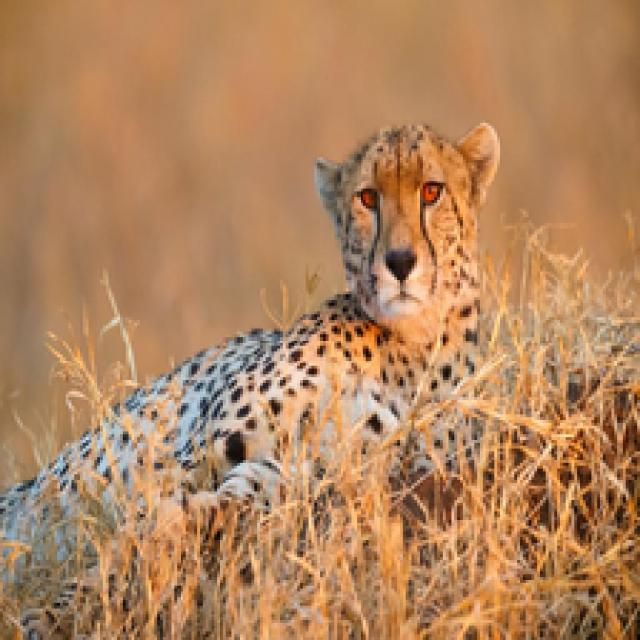cheetah: (0, 94, 503, 577)
